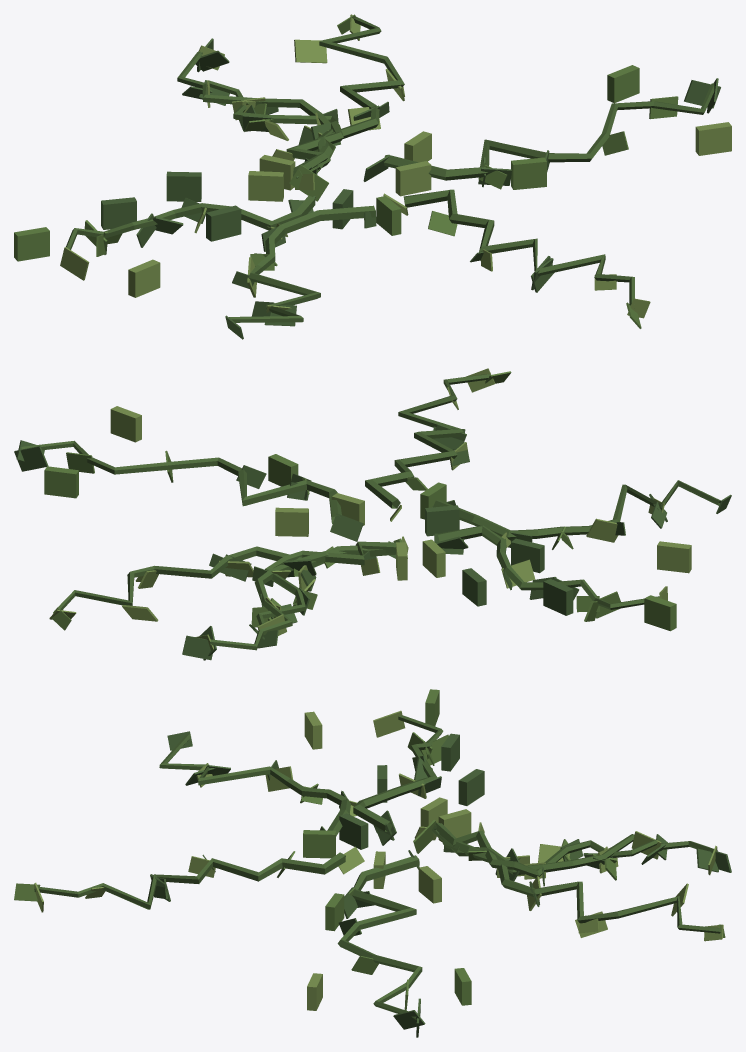
File: VN_GroundCreep.glb
3 renders of one model, top to bottom at view 1: azimuth 30°, elevation 25°; view 2: azimuth 150°, elevation 25°; view 3: azimuth 270°, elevation 25°, orthographic. The views are drawn at different scales.
Visible parts, largest first — view 1: VN_GroundCreep; view 2: VN_GroundCreep; view 3: VN_GroundCreep.
Boxes of the visible parts, x1,y1,x2,y2 form: VN_GroundCreep: [14, 14, 731, 339]; VN_GroundCreep: [14, 368, 731, 660]; VN_GroundCreep: [14, 689, 731, 1037].
Size of the model in its own units: 4.64 by 0.2546 by 4.41.
